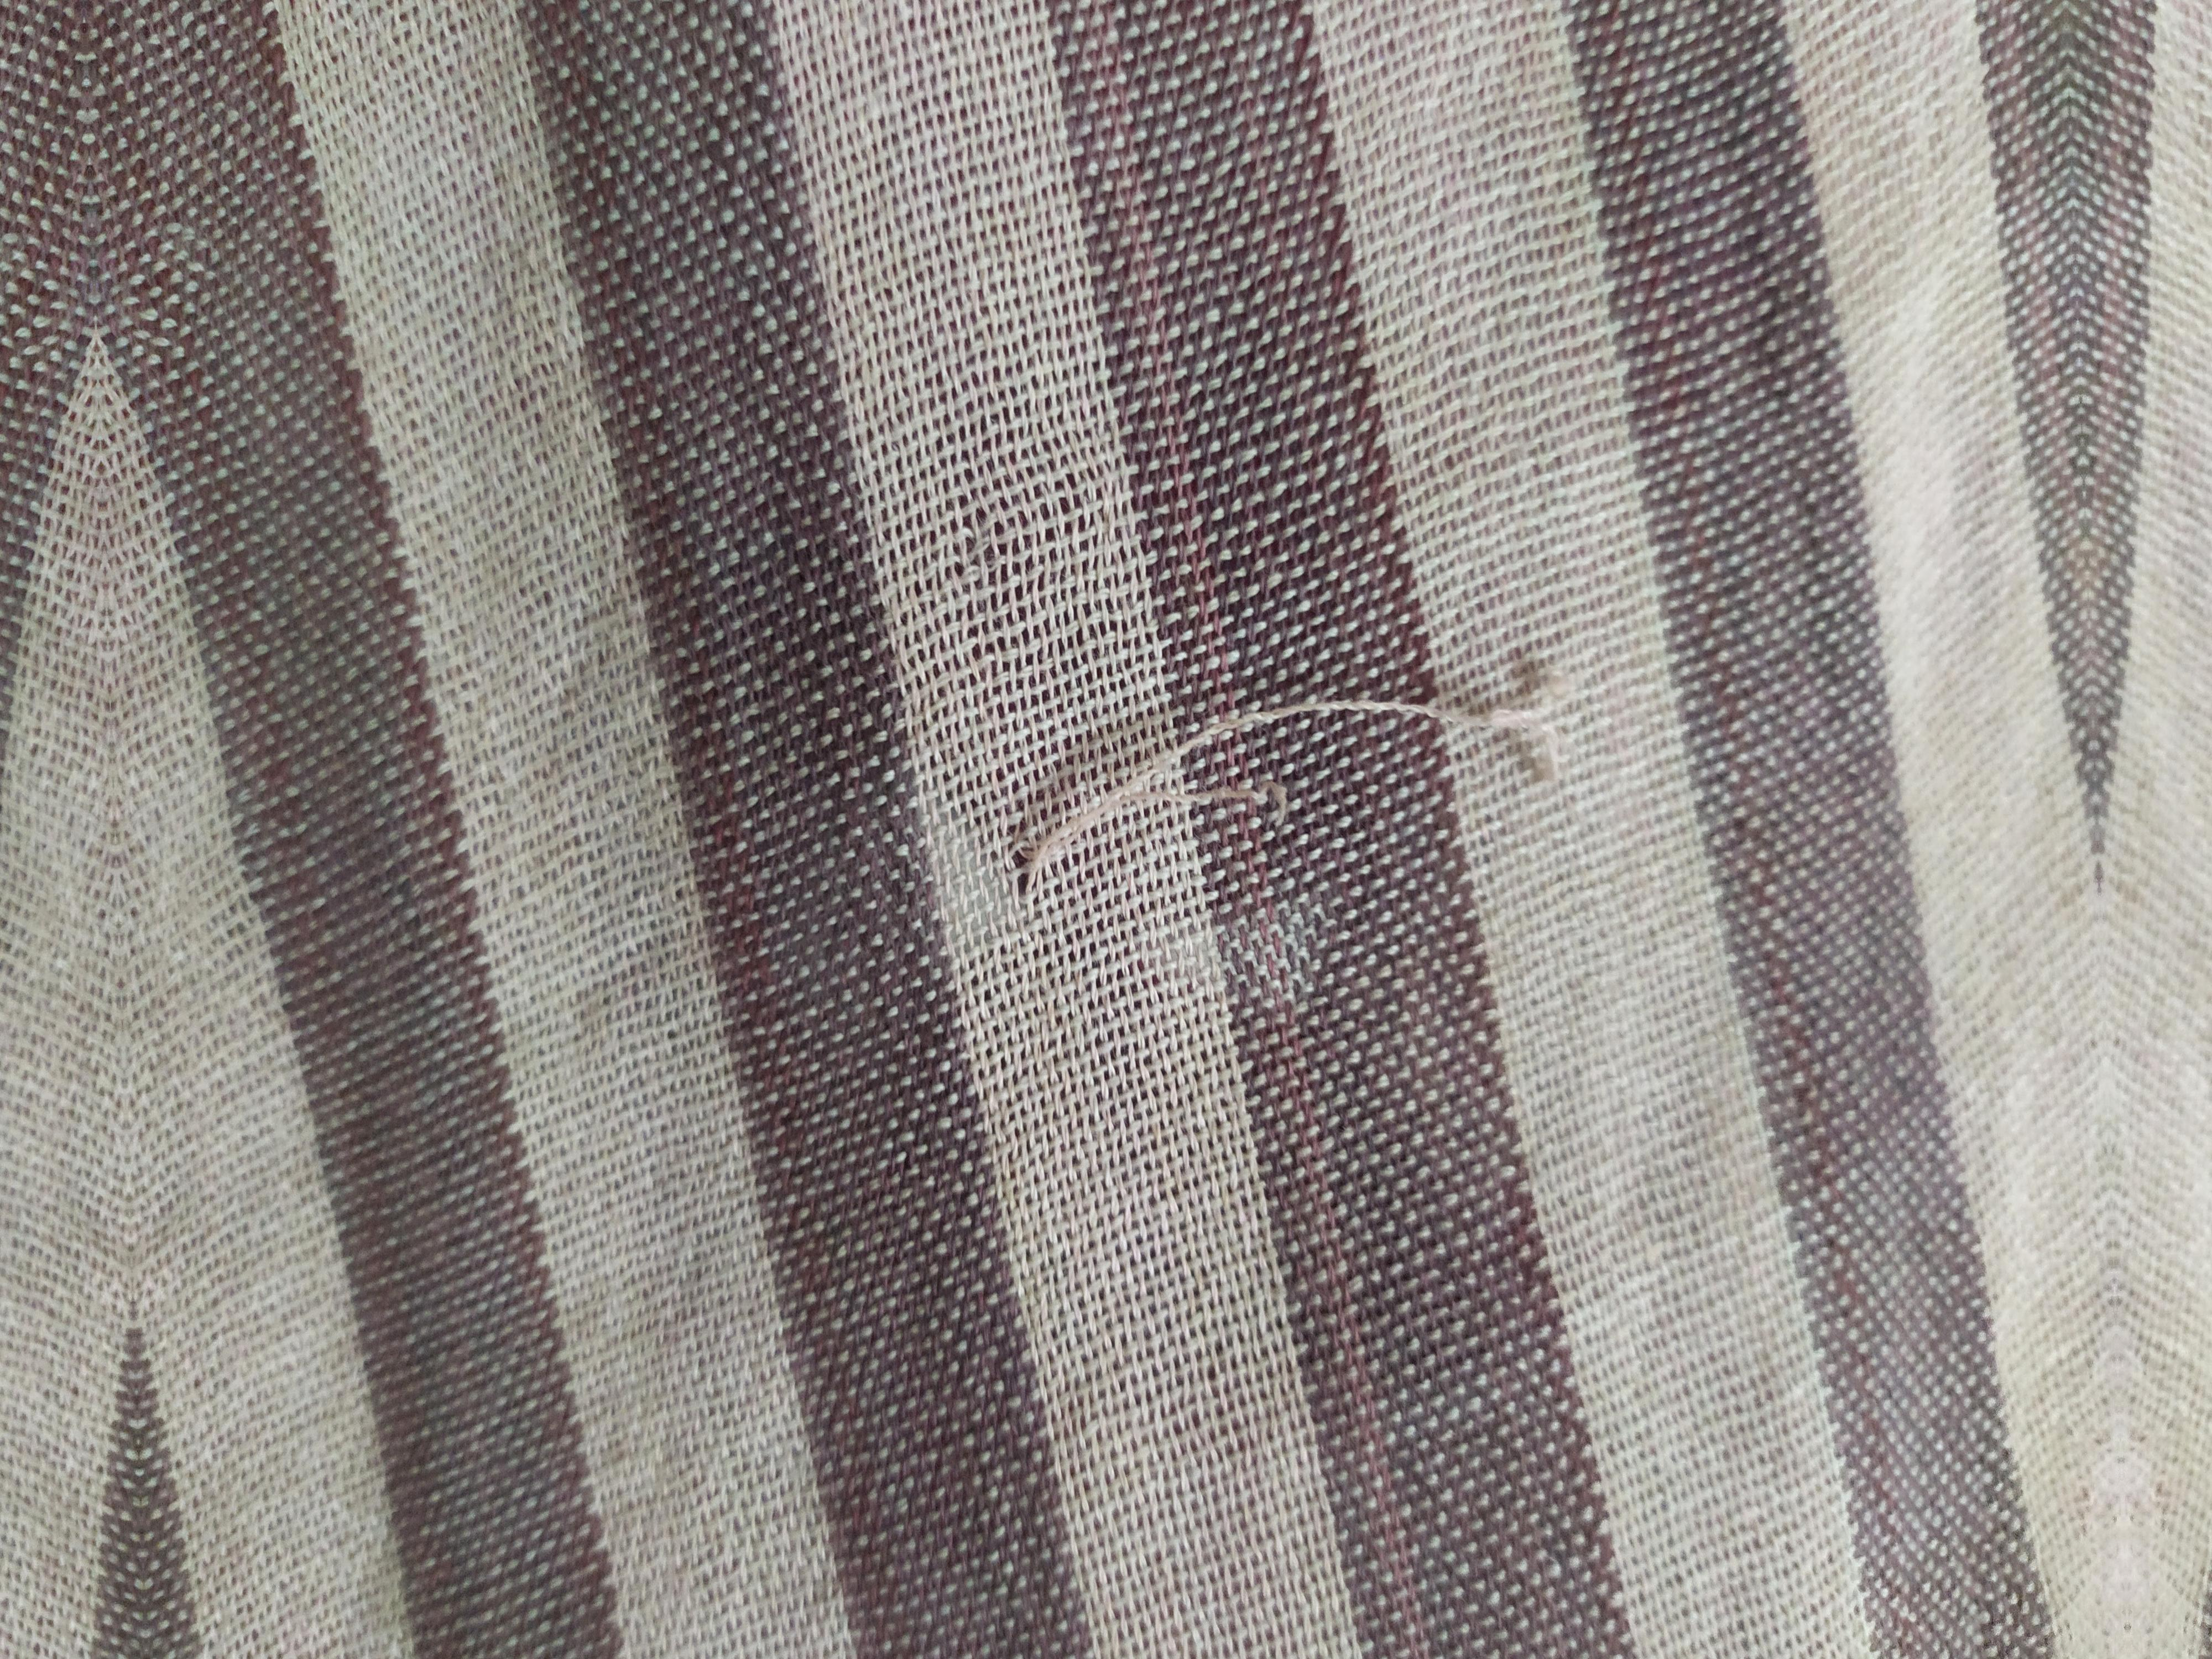snag: (986, 671, 1595, 951)
